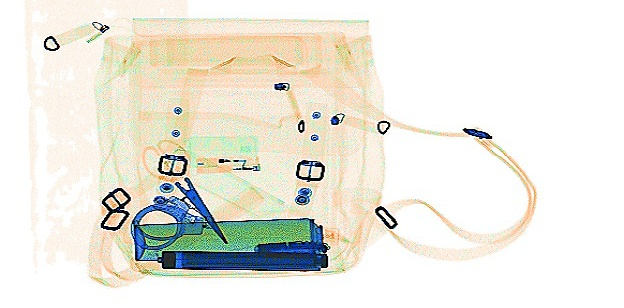handcuffs: (128, 191, 218, 249)
knife: (254, 237, 329, 255)
lighter: (193, 150, 262, 174)
pressure: (131, 214, 340, 262)
scissors: (140, 137, 226, 243)
